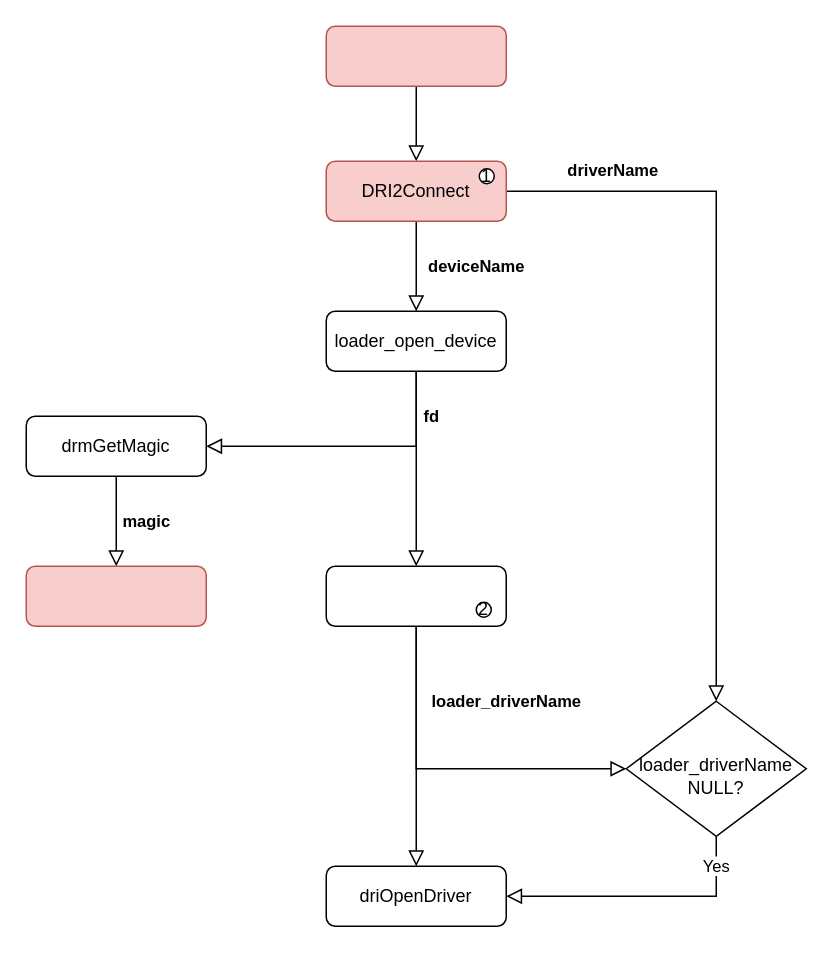
Some shapes in this 833 by 953 pixel diagram are drawn without their labels. The box of each missing label's shape, as (x1, y1, x2, y2) in pixels:
DRI2Authenticate: (25, 565, 206, 626)
glx_init_screen: (325, 25, 506, 86)
loader_get_driver_ for_fd: (325, 565, 506, 626)
